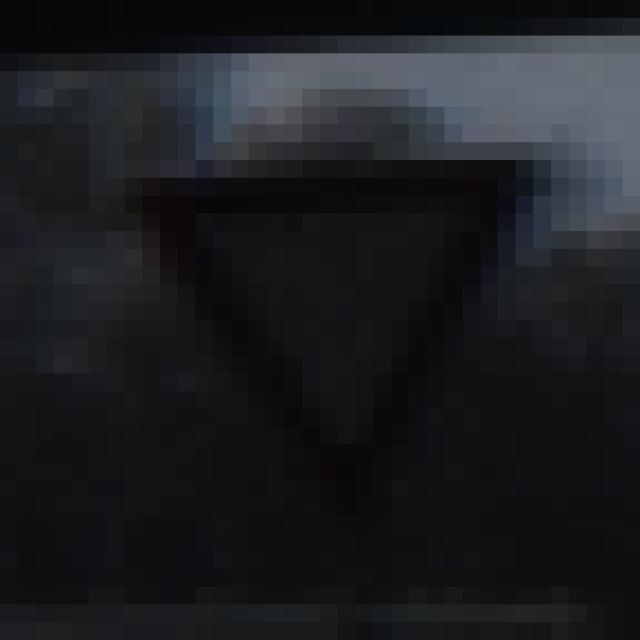Give Way: (90, 108, 552, 552)
